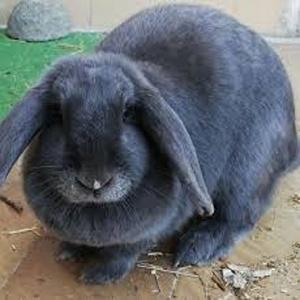rabbit: (0, 5, 298, 286)
